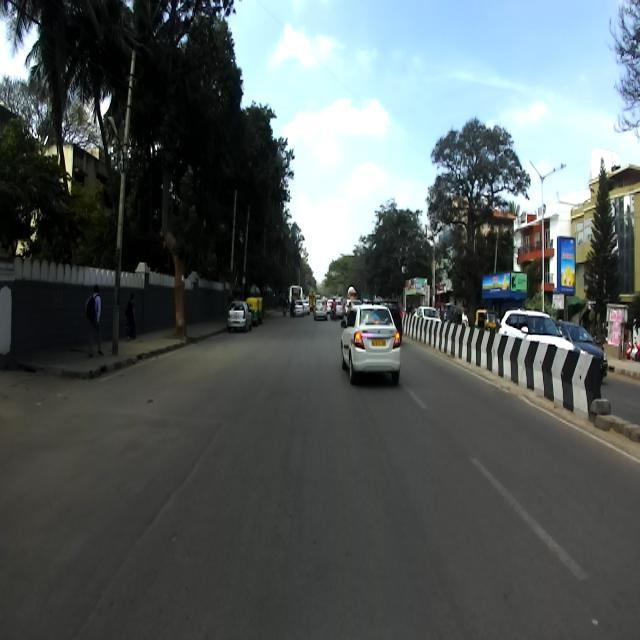car ahead at: (342, 301, 401, 375)
person ahead at: (84, 282, 106, 358)
